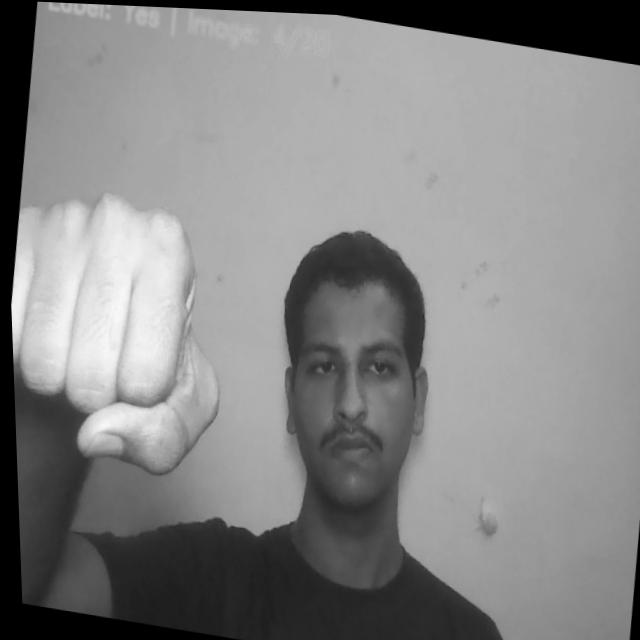Yes: (5, 170, 247, 490)
